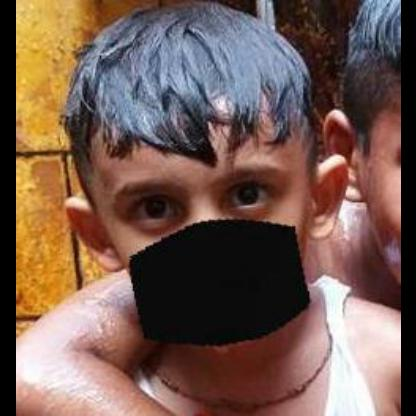Fabric/Cloth Mask: (81, 80, 327, 344)
